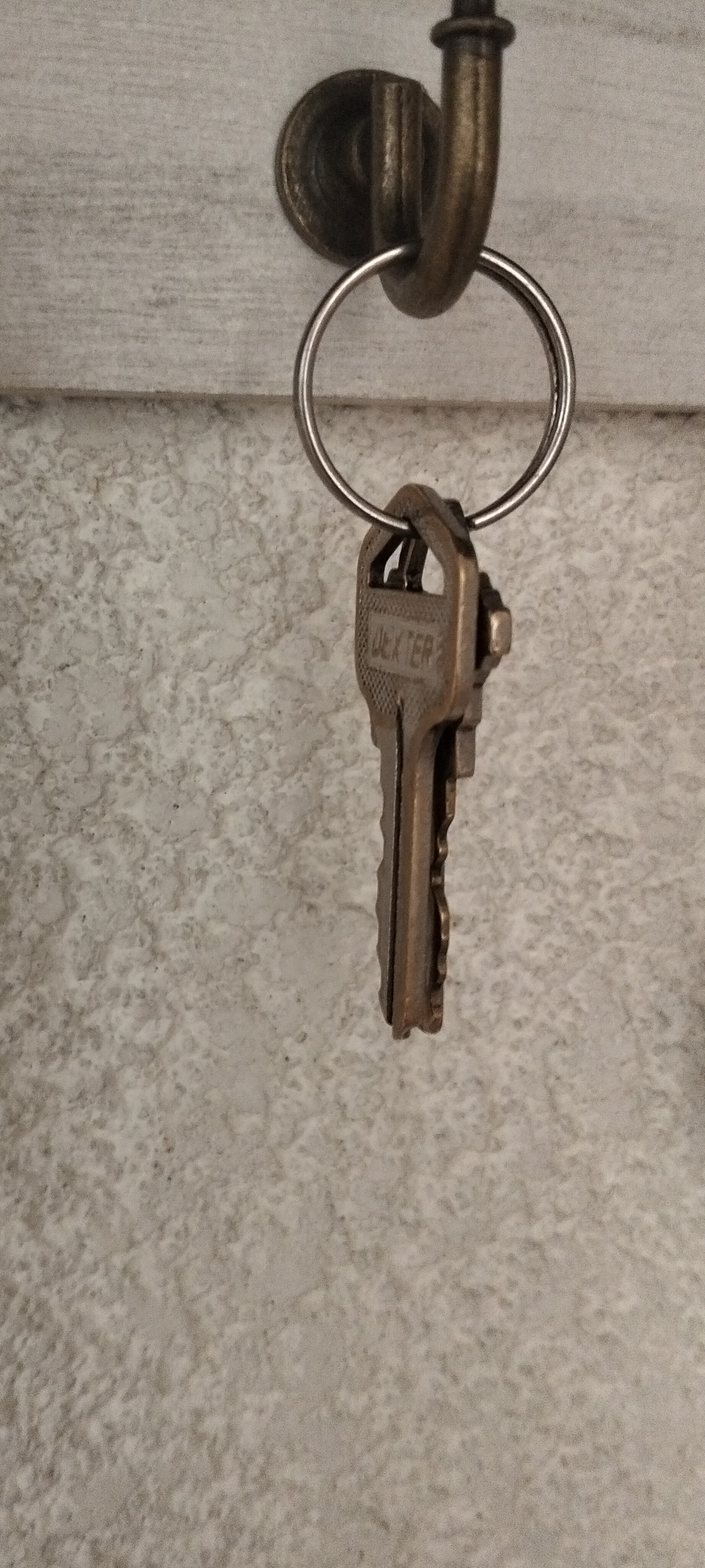llaves: (214, 226, 607, 1083)
